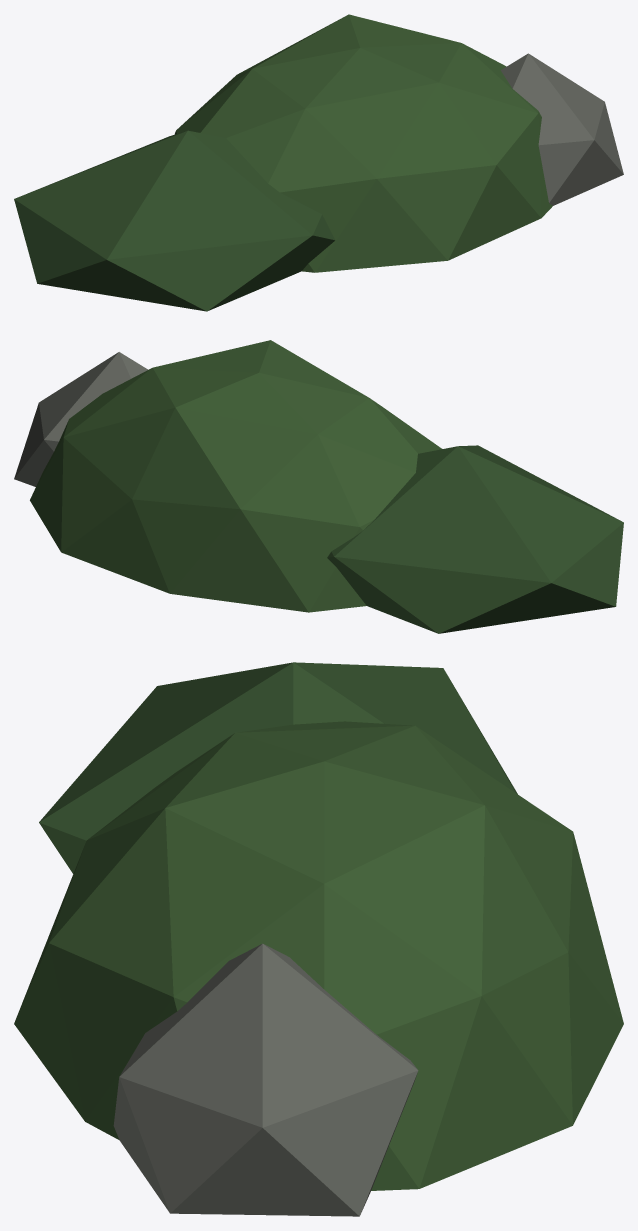
The model's file is hill_ridge.glb.
3 renders of one model, top to bottom at view 1: azimuth 30°, elevation 25°; view 2: azimuth 150°, elevation 25°; view 3: azimuth 270°, elevation 25°, orthographic. The views are drawn at different scales.
Visible parts, largest first — view 1: hill_ridge; view 2: hill_ridge; view 3: hill_ridge.
Part boxes in pixels (x1,y1,x2,y2): hill_ridge: (14, 14, 623, 311); hill_ridge: (14, 340, 623, 633); hill_ridge: (14, 662, 623, 1216).
Bounding box in the file's own units: 37.07 × 9.42 × 19.84.
